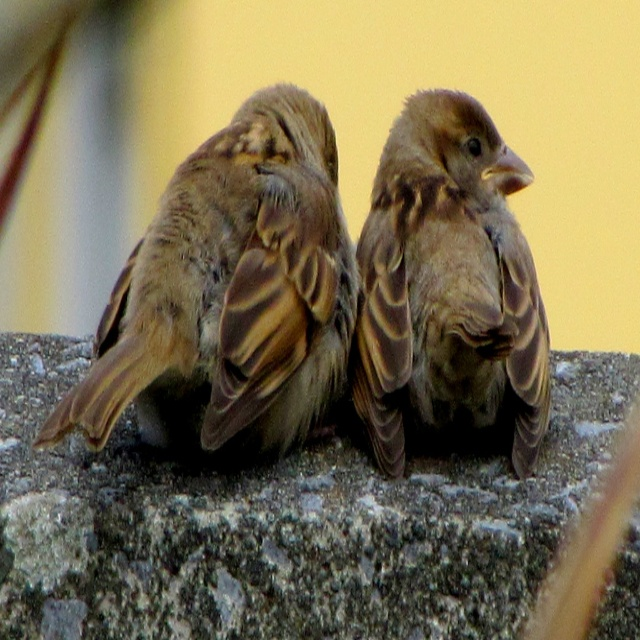Sparrow: (30, 76, 361, 464), (357, 83, 550, 475)
